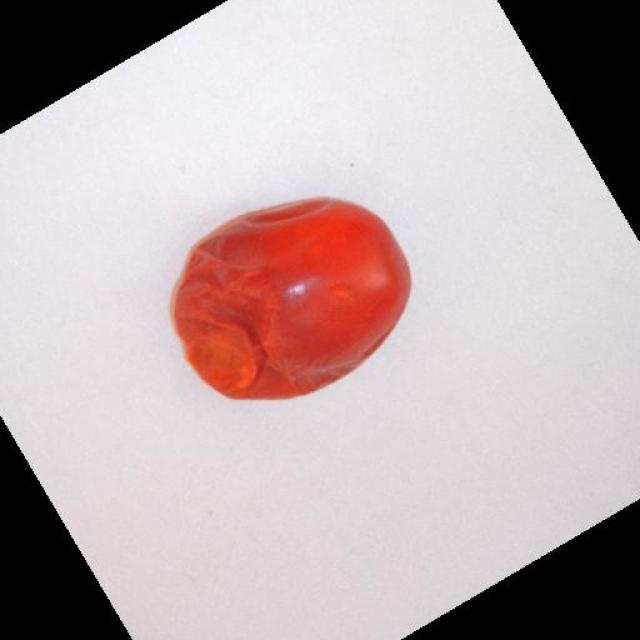Stale_tomato: (151, 197, 402, 391)
